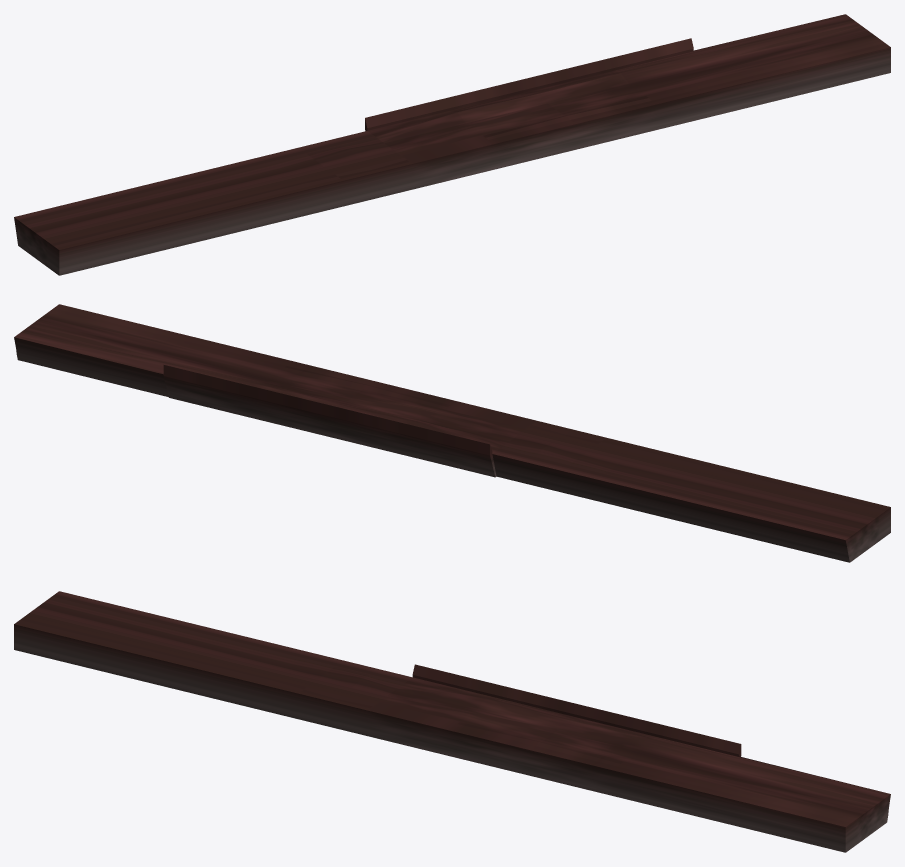
File: GIMM375CavePath.fbx
3 views of the same model, one above another, from view 1: azimuth 30°, elevation 25°; view 2: azimuth 150°, elevation 25°; view 3: azimuth 330°, elevation 25° (orthographic).
Visible parts, largest first — view 1: Cube; view 2: Cube; view 3: Cube.
Boxes of the visible parts, left/top/right/bottom form: Cube: left=14, top=14, right=890, bottom=275; Cube: left=14, top=304, right=890, bottom=562; Cube: left=14, top=591, right=890, bottom=852.
Size of the model in its own units: 11538 by 490 by 1142.
1 material, 1 textured.
